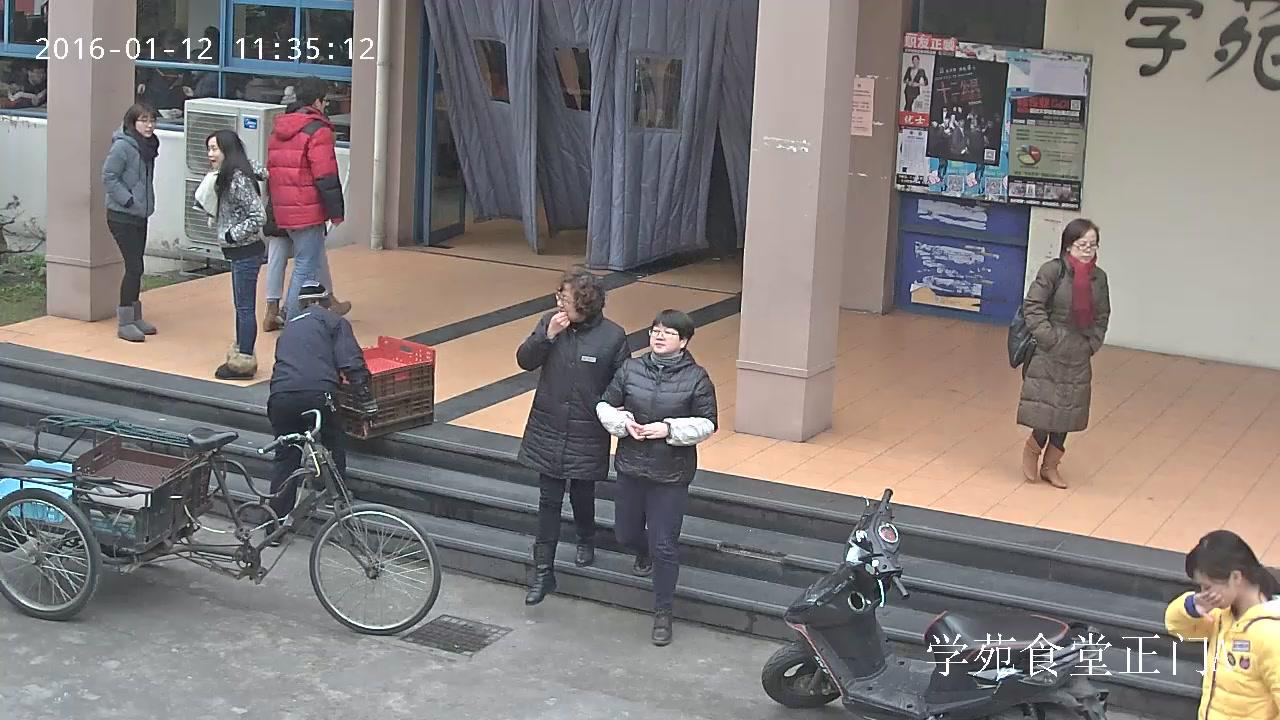person: (264, 278, 434, 546), (596, 308, 719, 647), (513, 270, 630, 604), (265, 279, 373, 545), (1006, 217, 1111, 490), (1163, 528, 1280, 720), (263, 75, 351, 317), (263, 99, 351, 332), (194, 128, 269, 378), (100, 100, 159, 340), (137, 29, 189, 111), (6, 62, 49, 110), (902, 54, 929, 111)
